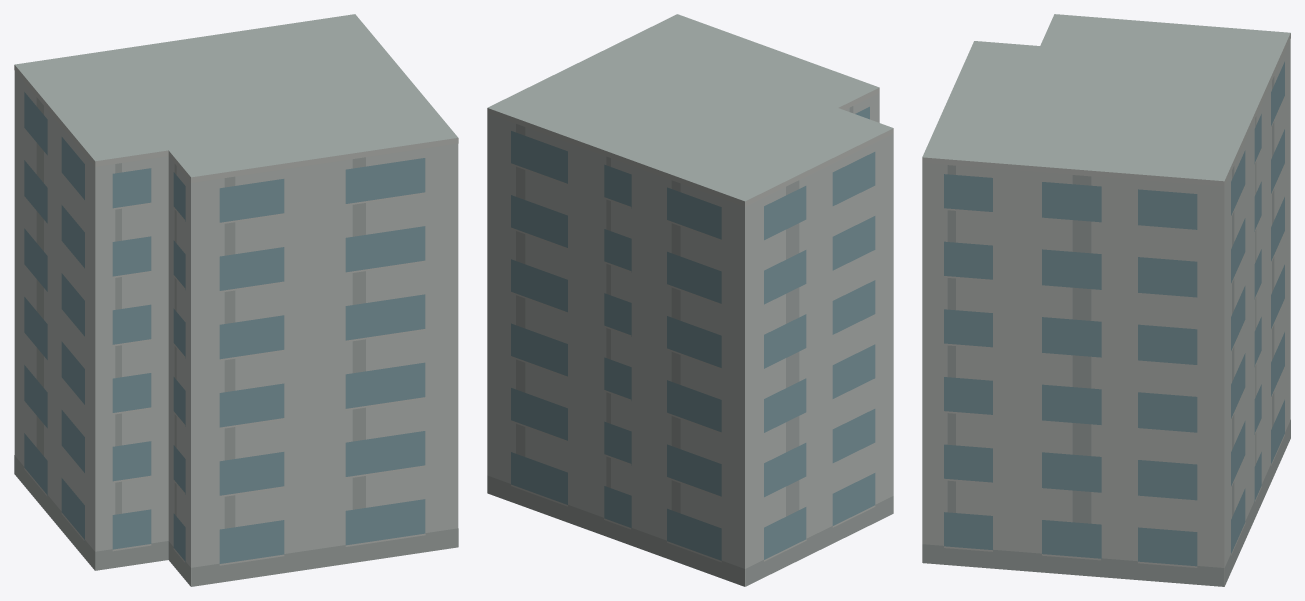
The model's file is survey-upis-32936148.glb.
The picture shows the model from 3 angles, left to right: view 1: azimuth 30°, elevation 25°; view 2: azimuth 150°, elevation 25°; view 3: azimuth 270°, elevation 25°; orthographic projection. The views are drawn at different scales.
Parts seen in each view (by area): view 1: survey-upis-32936148.tmp; view 2: survey-upis-32936148.tmp; view 3: survey-upis-32936148.tmp.
Boxes of the visible parts, bbox=[...] form: survey-upis-32936148.tmp: bbox=[14, 14, 458, 586]; survey-upis-32936148.tmp: bbox=[487, 14, 893, 586]; survey-upis-32936148.tmp: bbox=[922, 14, 1290, 586].
Bounding box in the file's own units: 15.39 × 17.4 × 14.34.
